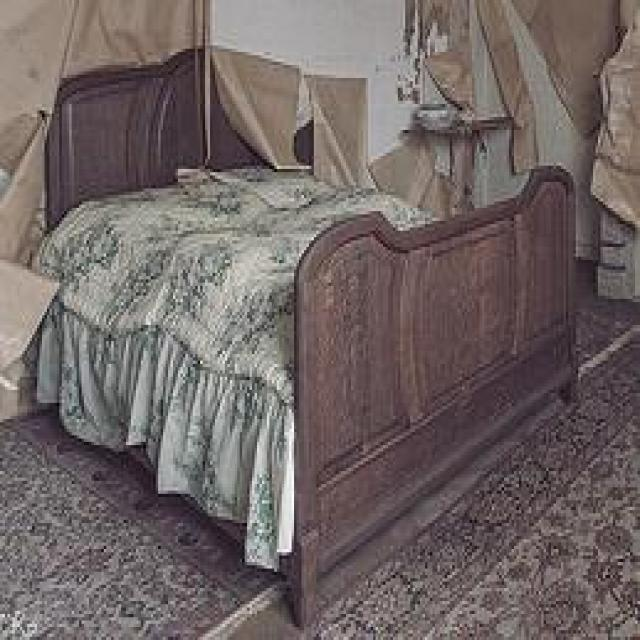bed: (36, 46, 579, 631)
